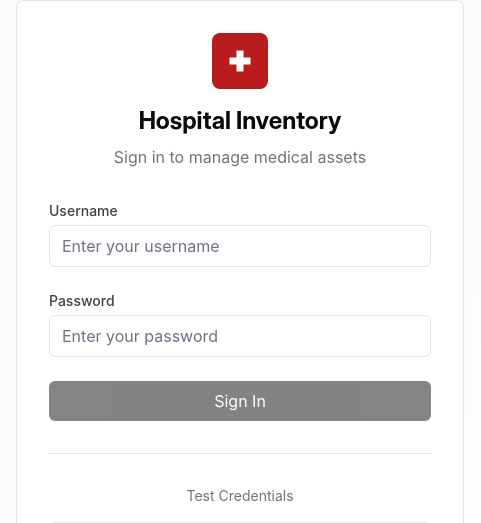
Test: LoginView Component › Login Process › should handle login errors gracefully
The image size is (481, 523).
Type "thomas" into the field with test id "username" at [240, 246], box top-left (49, 225), bottom-right (431, 267)
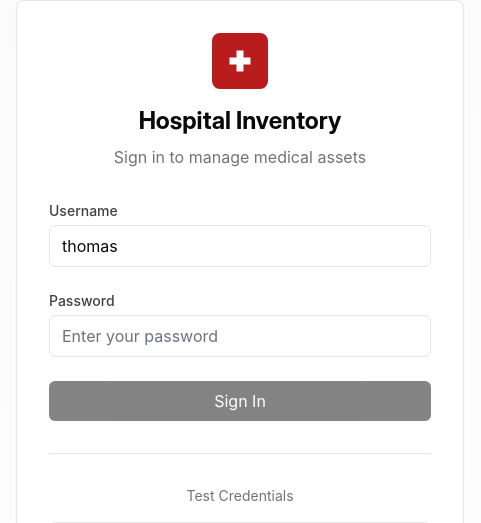
Type "thomas123" into the password field with test id "password" at [240, 336], box top-left (49, 315), bottom-right (431, 357)
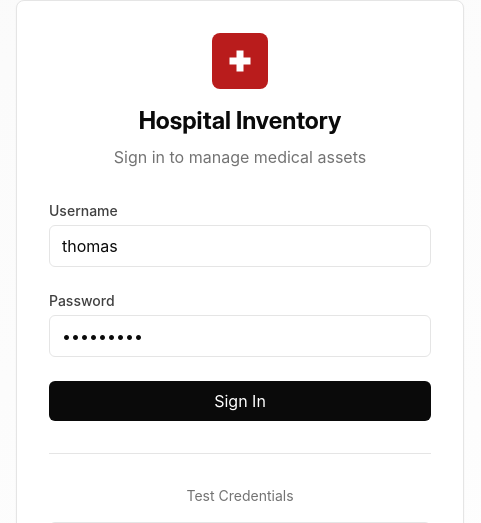
Submit the form, box top-left (49, 201), bottom-right (431, 421)
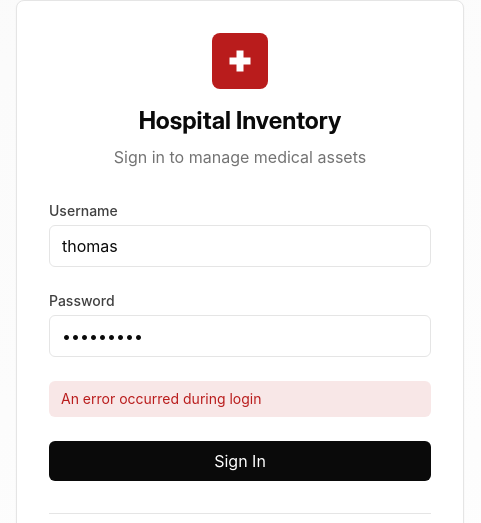
Expected: the text "An error occurred during login" is shown, top-left (49, 381), bottom-right (431, 417)
